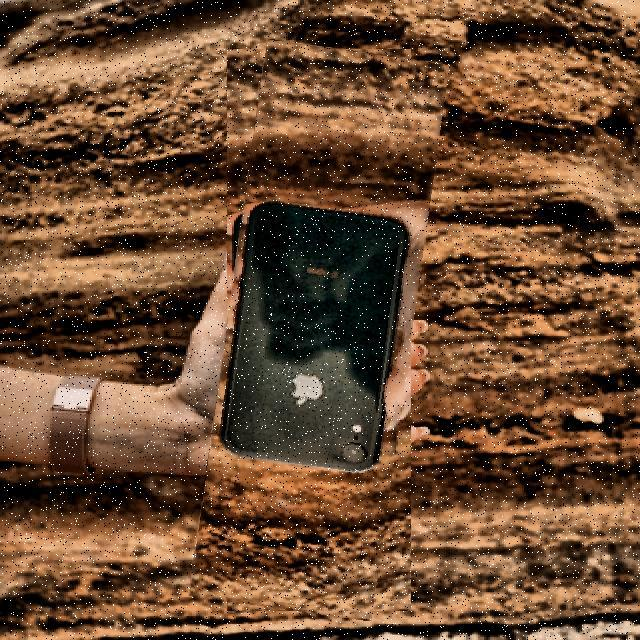Phone: (207, 43, 430, 616)
